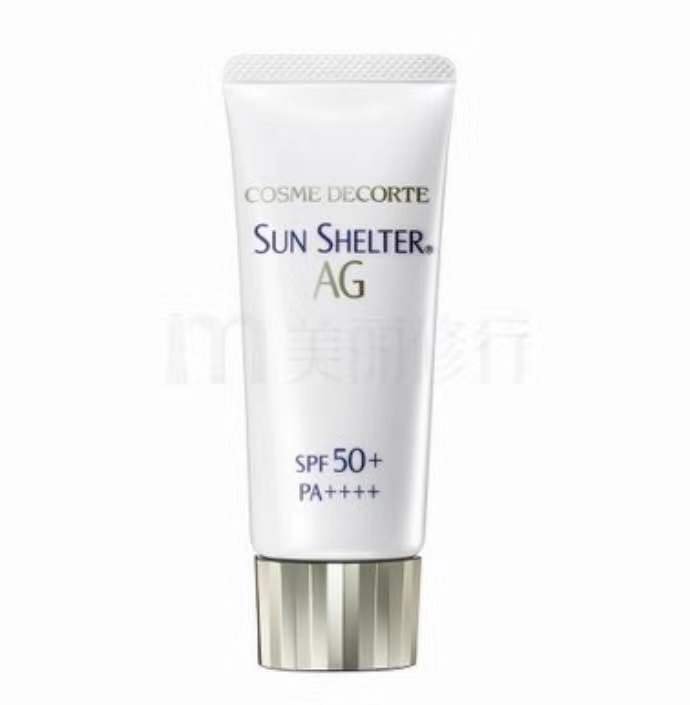cosmetic: (221, 54, 455, 673)
